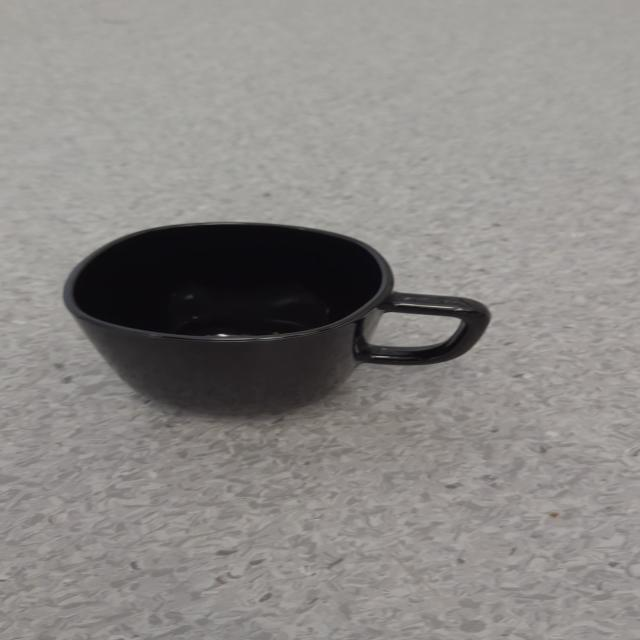mug: (61, 220, 491, 418)
